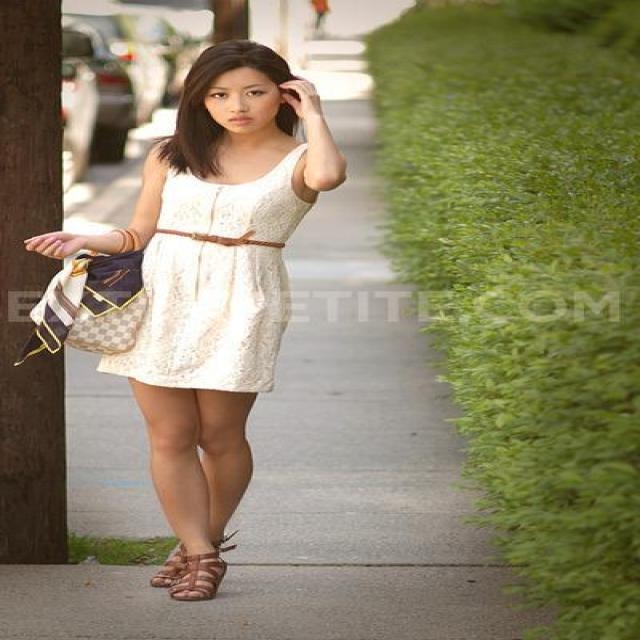bag: (29, 243, 150, 366)
dress: (98, 150, 308, 392)
shoe: (150, 538, 260, 600)
